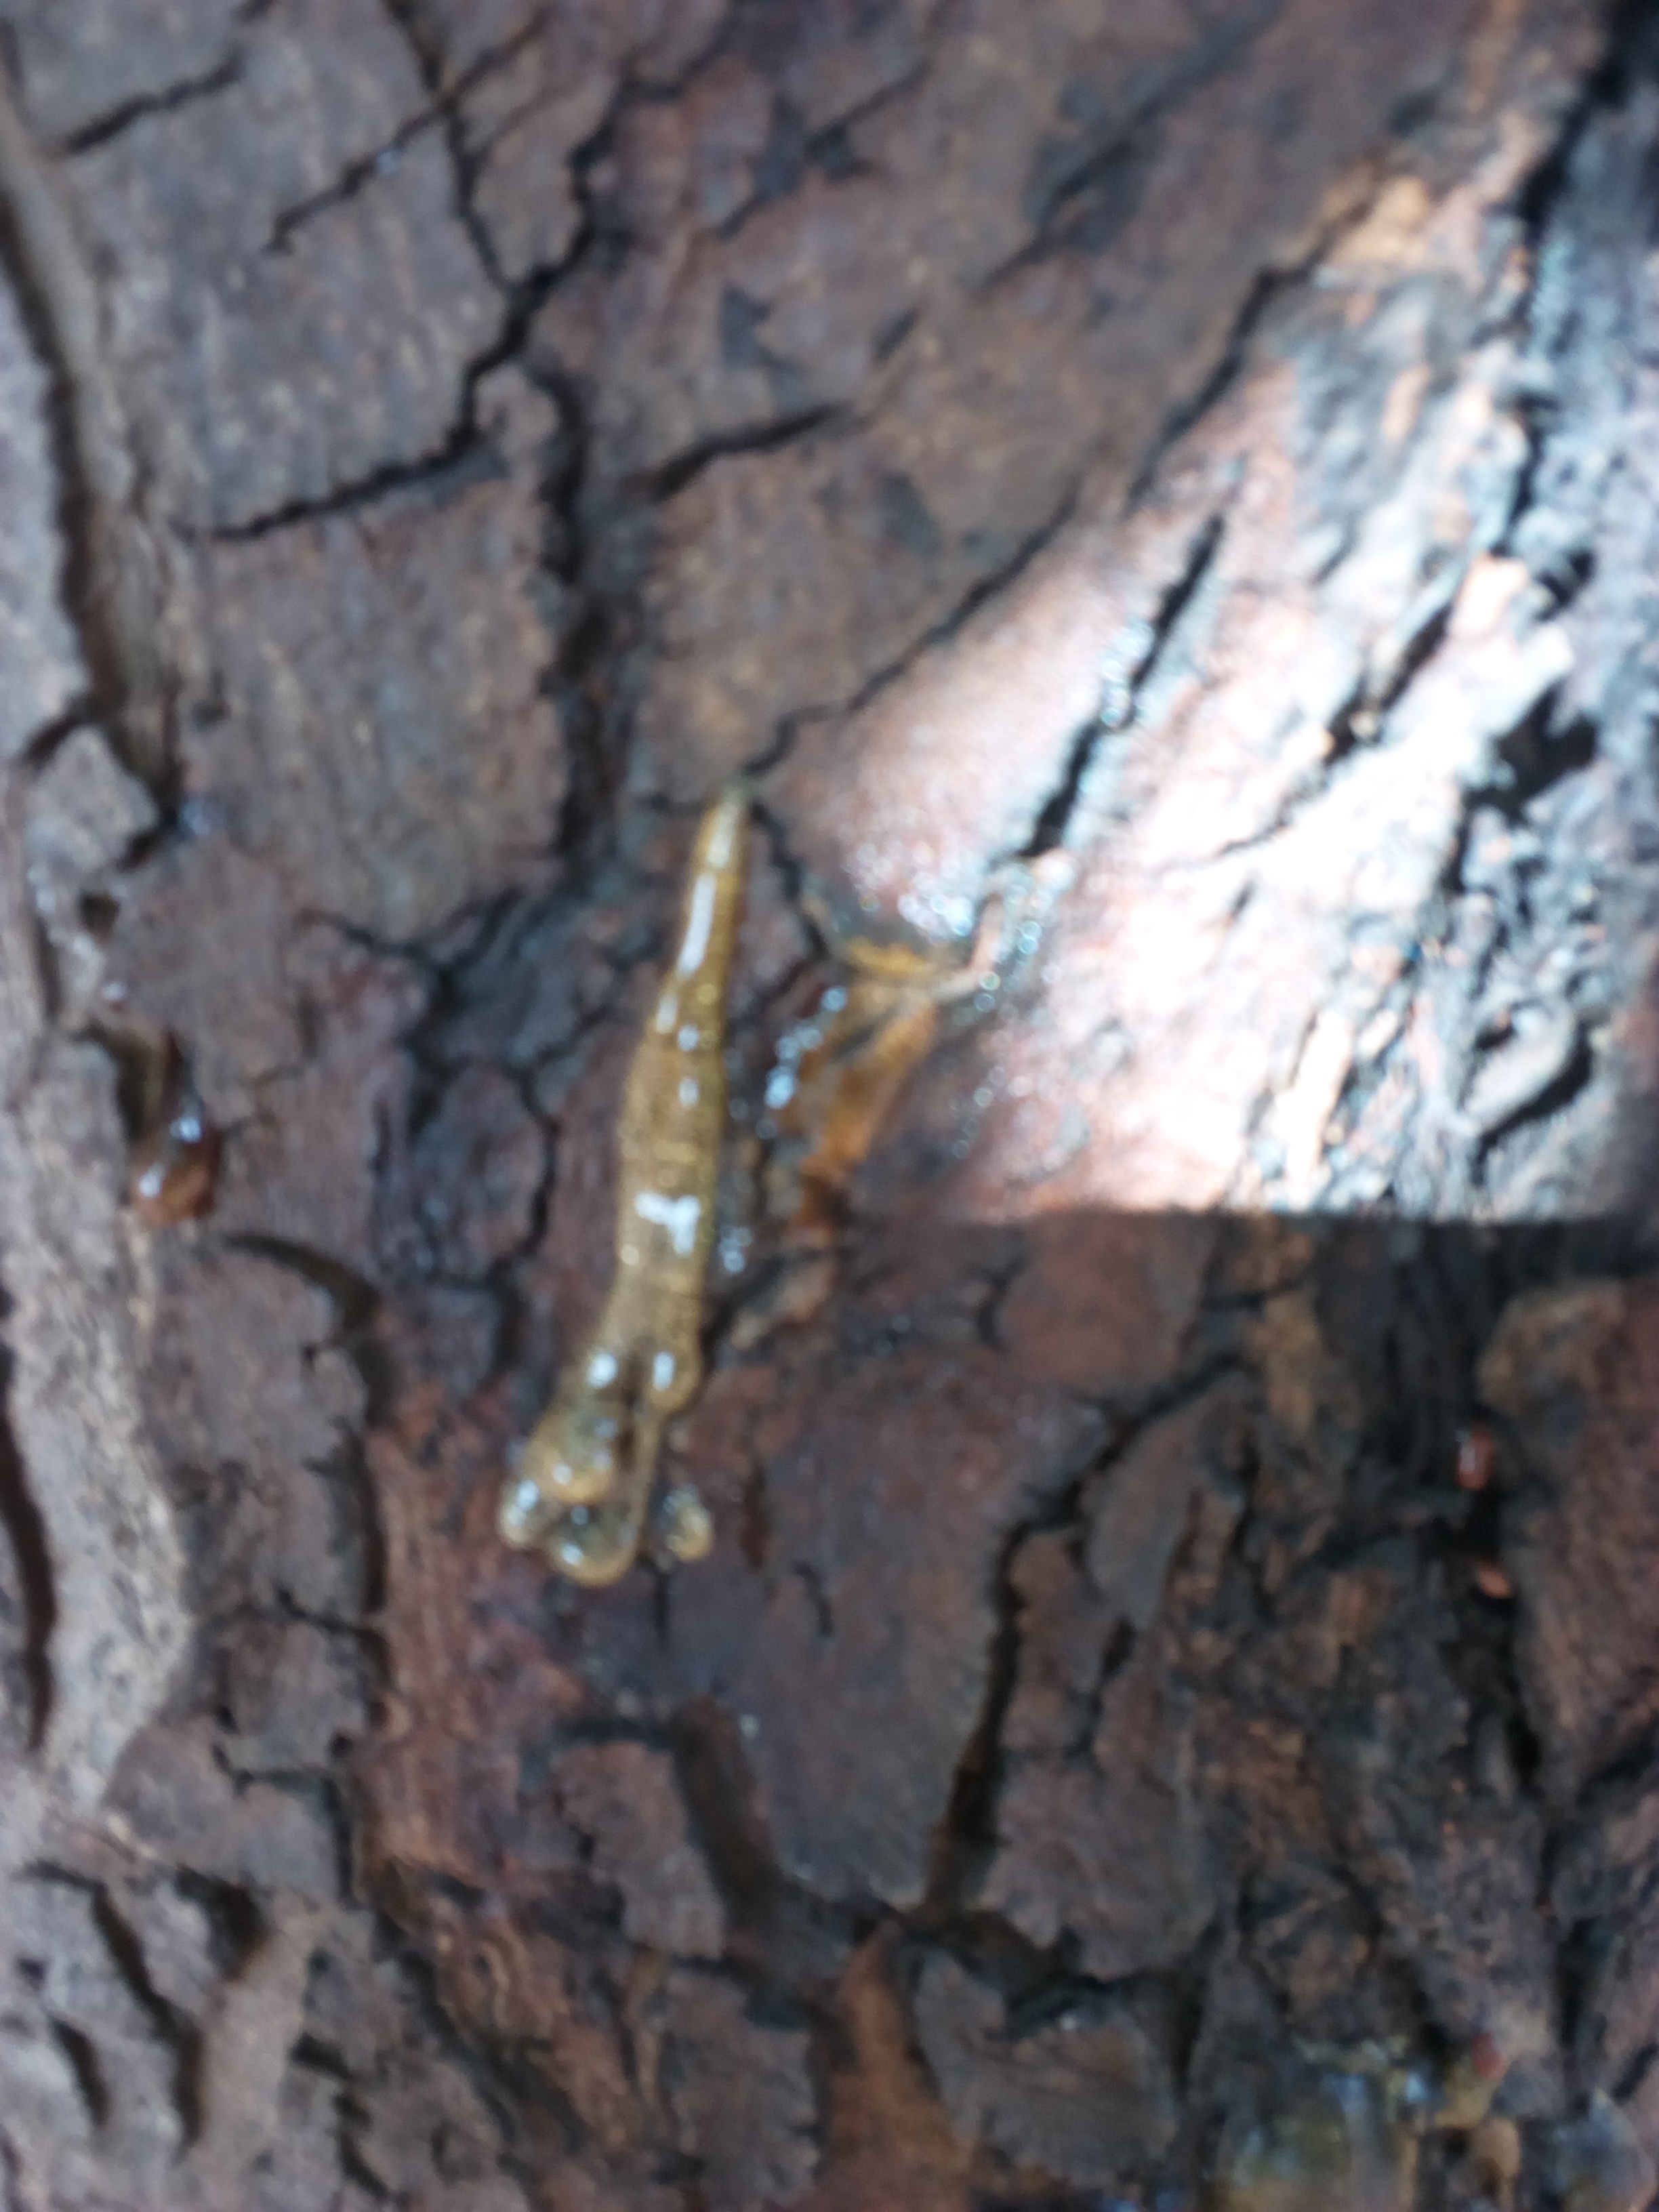Gommose: (1351, 266, 1659, 2038), (484, 808, 819, 1594)
